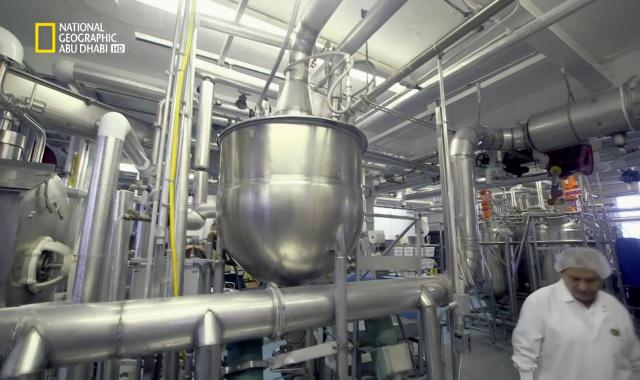hairnet: (553, 240, 610, 283)
